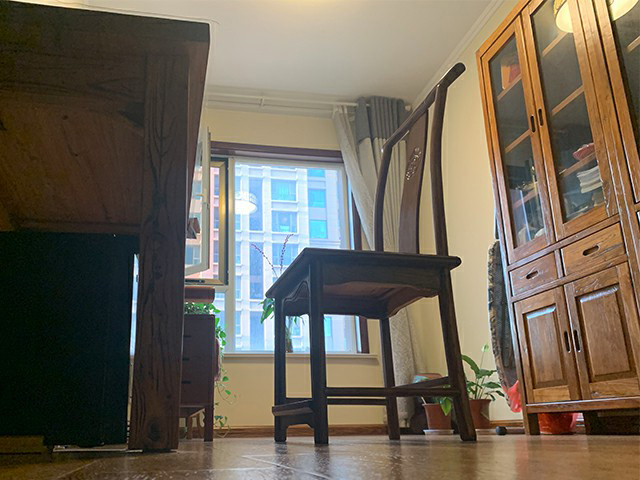cabinet: (498, 210, 640, 435)
curtain: (331, 96, 415, 429)
sofa: (178, 284, 223, 442)
stool: (262, 60, 477, 446)
table: (1, 1, 211, 453)
